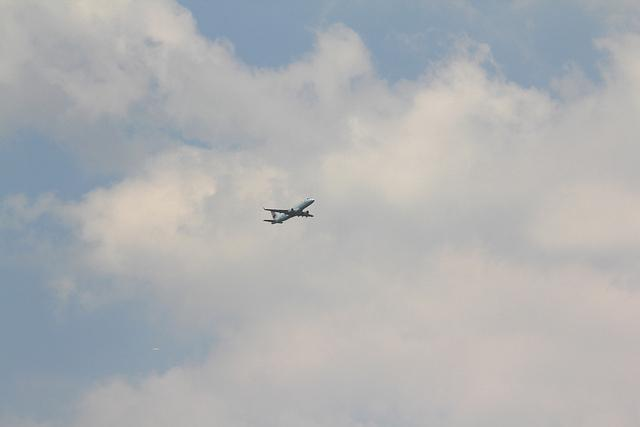airplane: (261, 195, 318, 226)
